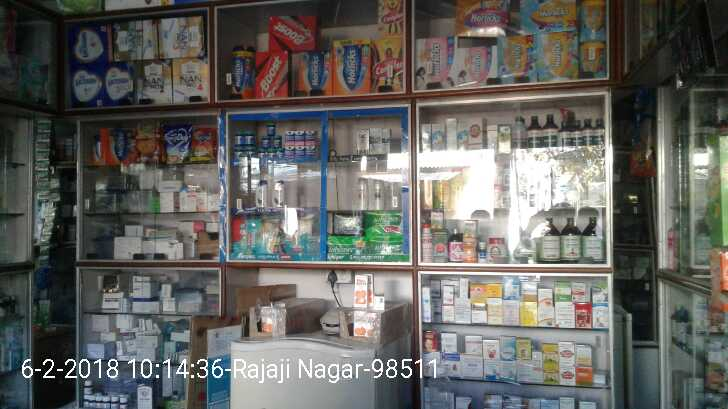beauty: (376, 126, 394, 157), (369, 175, 385, 209), (353, 177, 369, 209), (253, 178, 270, 208), (270, 177, 287, 206), (351, 128, 367, 157), (367, 127, 382, 154)
pharmacy: (230, 216, 280, 254), (363, 209, 405, 239), (327, 234, 360, 260), (262, 118, 278, 133), (283, 126, 295, 144), (270, 131, 282, 148), (259, 133, 274, 146), (244, 128, 254, 145), (293, 130, 305, 144), (306, 127, 317, 142), (235, 129, 244, 145)
